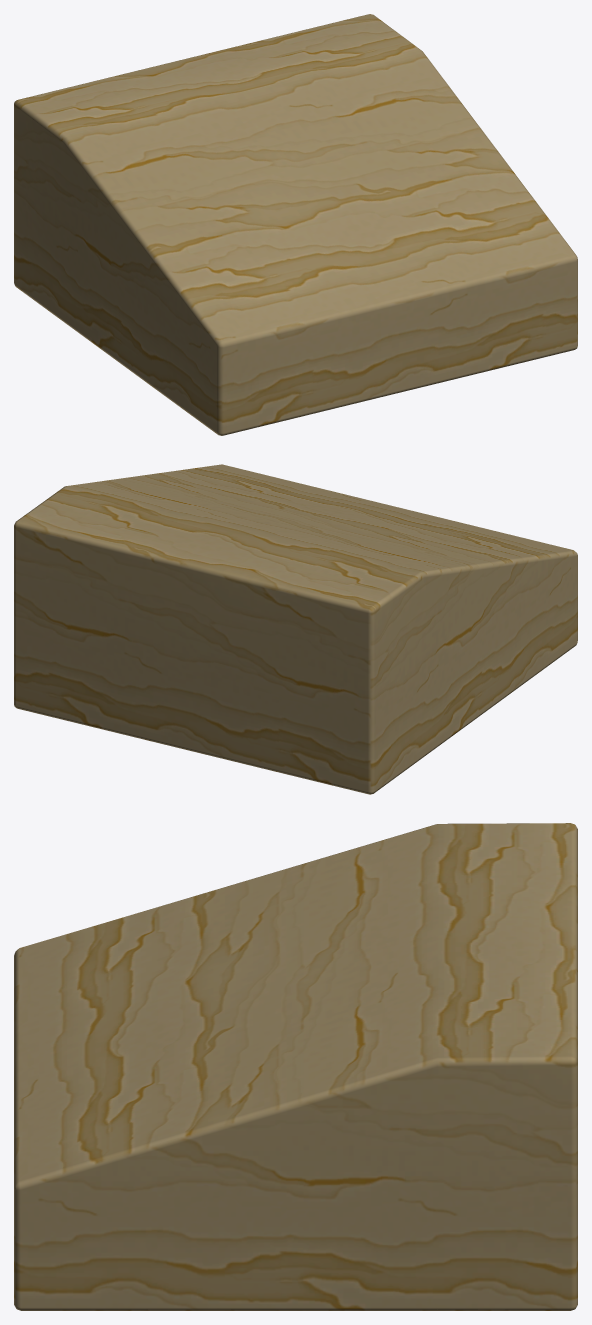
Rendered from SM_Platform_4m_03_B_Ramp.glb.
The picture shows the model from 3 angles, top to bottom: view 1: azimuth 30°, elevation 25°; view 2: azimuth 150°, elevation 25°; view 3: azimuth 270°, elevation 25°; orthographic projection. The views are drawn at different scales.
Parts seen in each view (by area): view 1: SM_Platform_4m_03_B_Ramp; view 2: SM_Platform_4m_03_B_Ramp; view 3: SM_Platform_4m_03_B_Ramp.
Boxes of the visible parts, x1,y1,x2,y2 form: SM_Platform_4m_03_B_Ramp: (14, 14, 577, 435); SM_Platform_4m_03_B_Ramp: (14, 464, 577, 794); SM_Platform_4m_03_B_Ramp: (14, 823, 577, 1310).
Bounding box in the file's own units: 4.02 × 2 × 4.01.
Materials: 1 (1 with a texture image).
